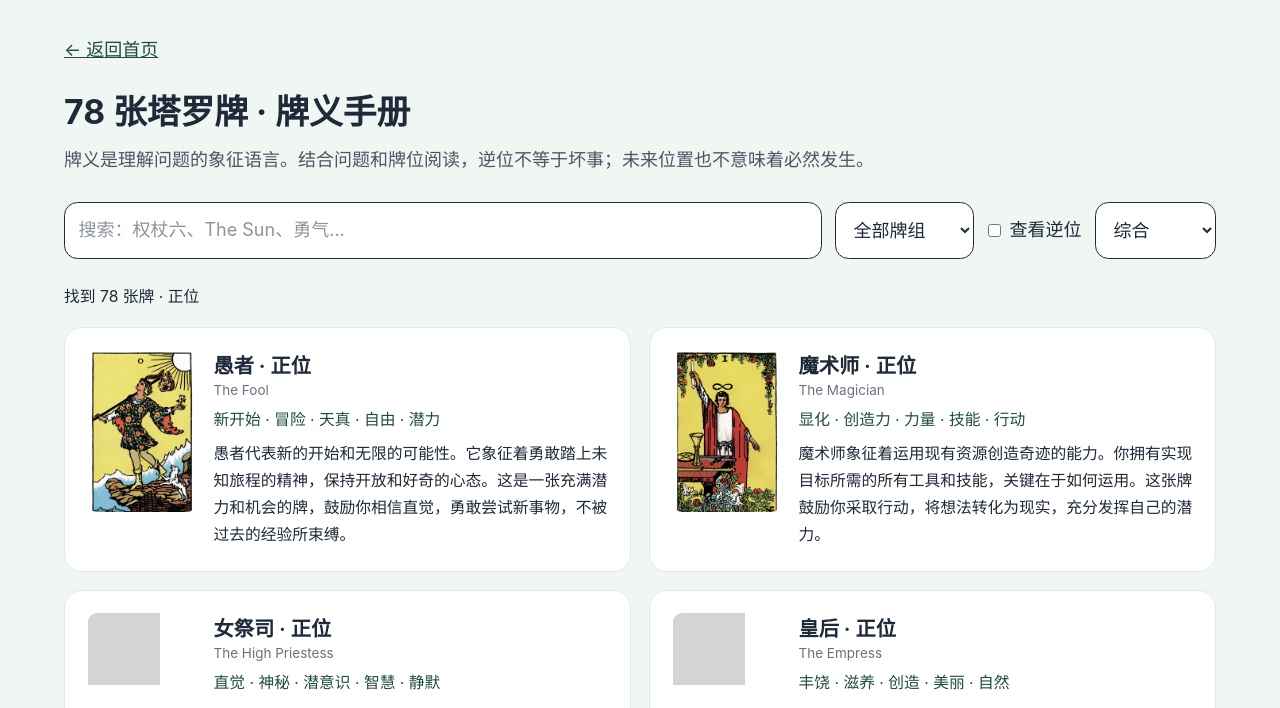
Test: 多牌入口和本地牌义手册 › 手册包含全部78张，支持中文搜索与正逆位切换
expect the message shows "找到 78 张牌": met, box [64, 287, 199, 306]
Type "权杖六" into the field named "搜索牌名或关键词" at (443, 230), box [64, 202, 822, 259]
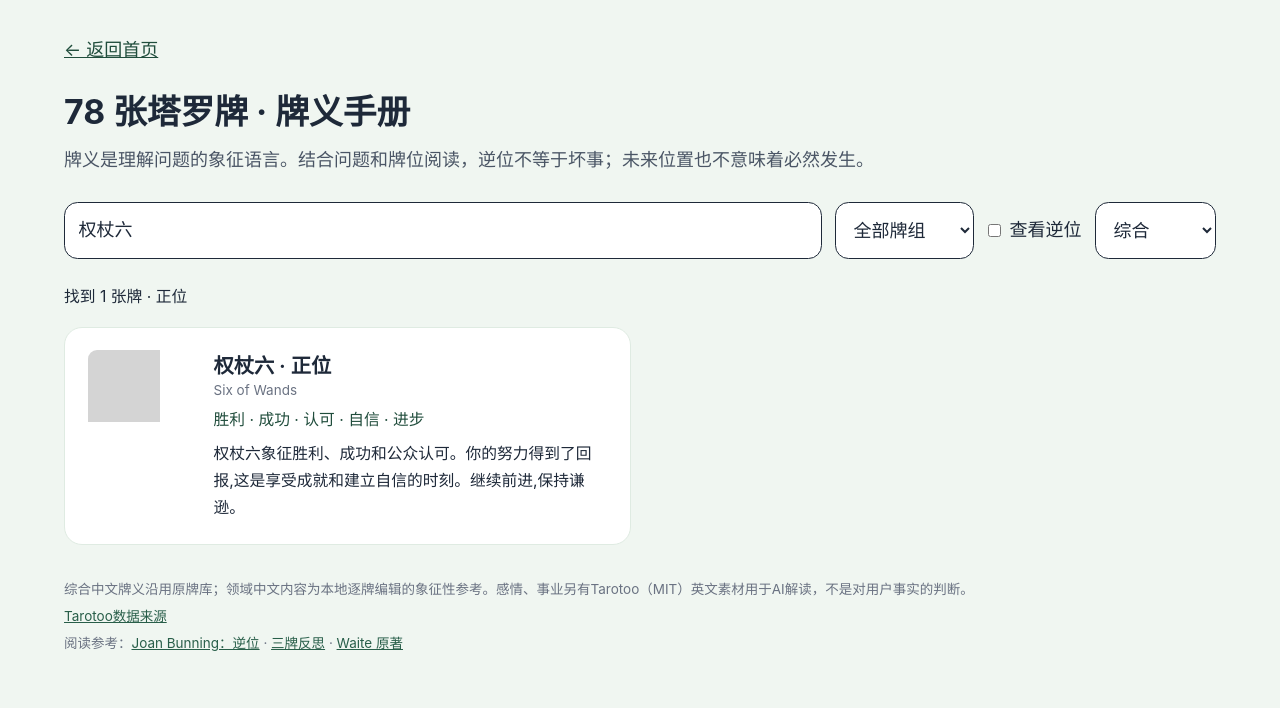
expect the text "权杖六象征胜利、成功和公众认可。你的努力得到了回报,这是享受成就和建立自信的时刻。继续前进,保持谦逊。" is shown: met, box [214, 440, 608, 521]
expect the message shows "找到 1 张牌": met, box [64, 287, 187, 306]
Click the checkbox labelled "查看逆位" at (994, 230), box [988, 224, 1000, 237]
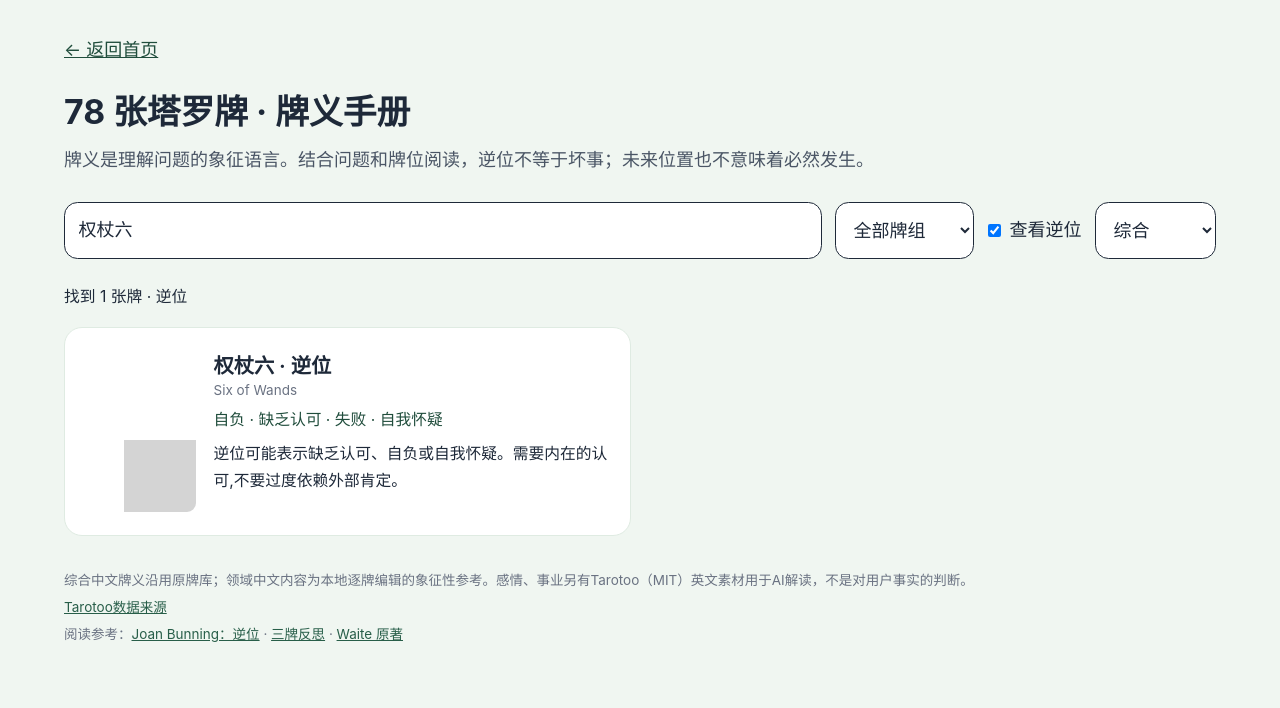
expect the text "逆位可能表示缺乏认可、自负或自我怀疑。需要内在的认可,不要过度依赖外部肯定。" is shown: met, box [214, 440, 608, 494]
expect the text "权杖六象征胜利、成功和公众认可。你的努力得到了回报,这是享受成就和建立自信的时刻。继续前进,保持谦逊。" is gone: met
